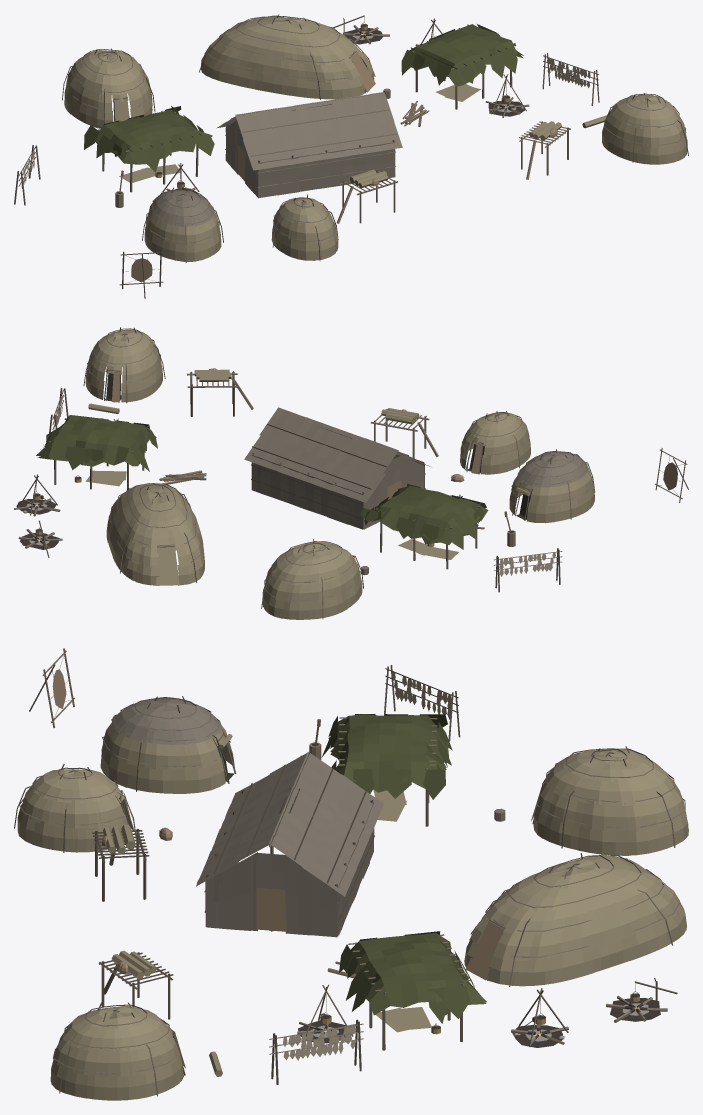
The model's file is potawatomi_camp_1812_middle__camp_1812.glb.
The picture shows the model from 3 angles, top to bottom: view 1: azimuth 30°, elevation 25°; view 2: azimuth 150°, elevation 25°; view 3: azimuth 270°, elevation 25°; orthographic projection. The views are drawn at different scales.
Visible parts, largest first — view 1: potawatomi_camp_1812_middle__camp_1812; view 2: potawatomi_camp_1812_middle__camp_1812; view 3: potawatomi_camp_1812_middle__camp_1812.
Boxes of the visible parts, x1,y1,x2,y2 form: potawatomi_camp_1812_middle__camp_1812: (14,14,688,298); potawatomi_camp_1812_middle__camp_1812: (14,327,688,619); potawatomi_camp_1812_middle__camp_1812: (14,648,688,1100).
Size of the model in its own units: 31.65 by 3.45 by 22.73.
